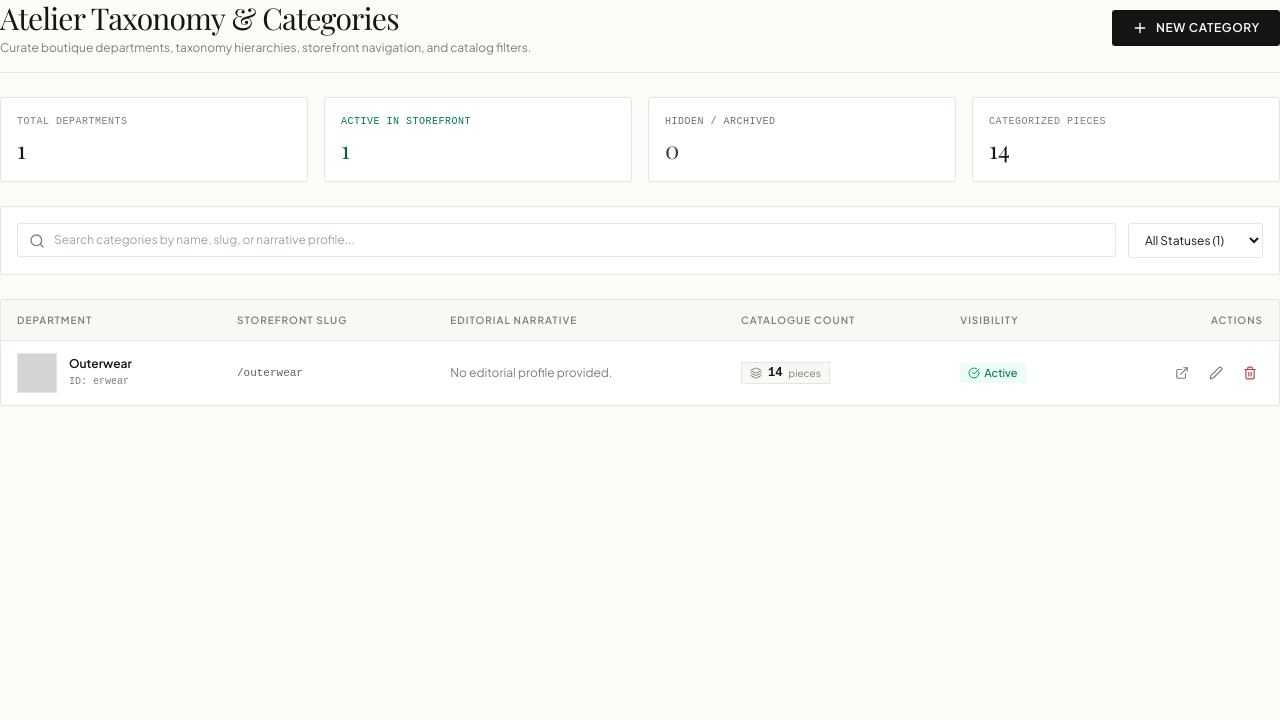
Scenario: Frontend Admin Suite (/admin/*) › AdminCategoriesPage (/admin/categories) › shows deletion blocked warning when category contains linked garments
Expected: the text "Outerwear" is shown, [69,356,132,372]
Click the button titled "Delete Category": coordinates (1250, 373) [1237,360,1263,386]
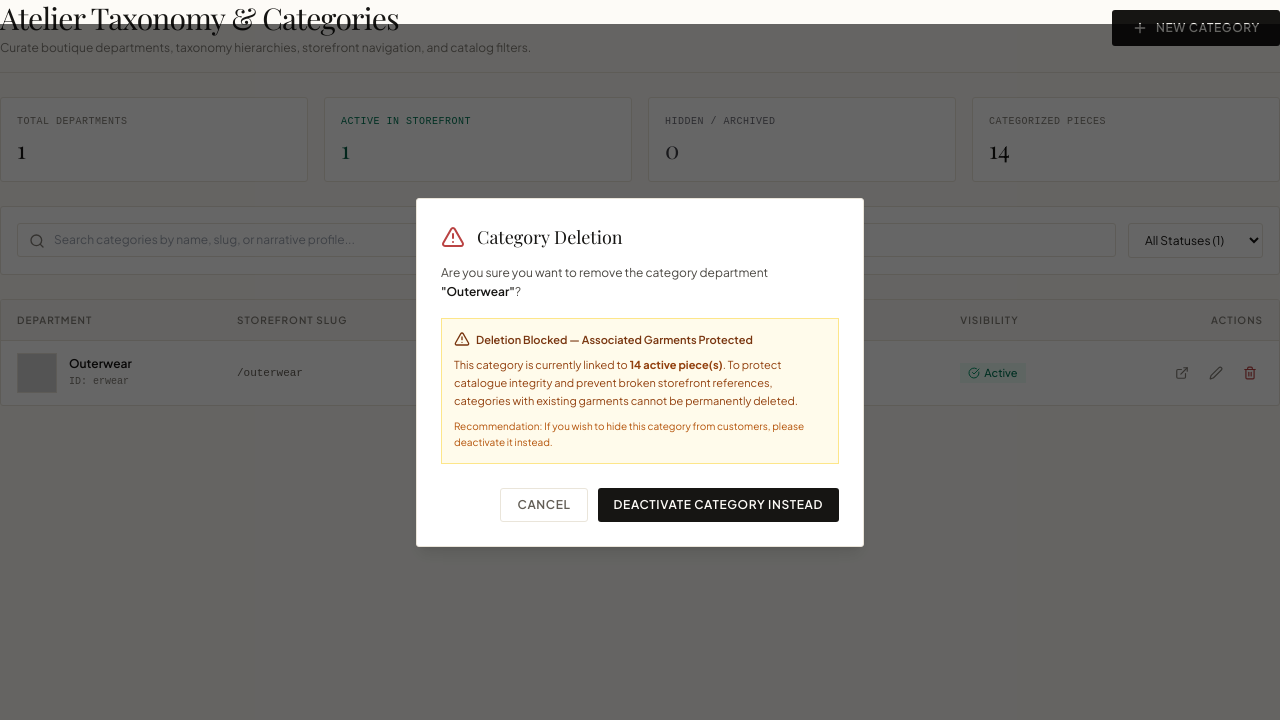
Expected: the text "Deletion Blocked — Associated Garments Protected" is shown, [476,330,753,348]
Expected: the button "Deactivate Category Instead" is shown, [598,488,839,522]
